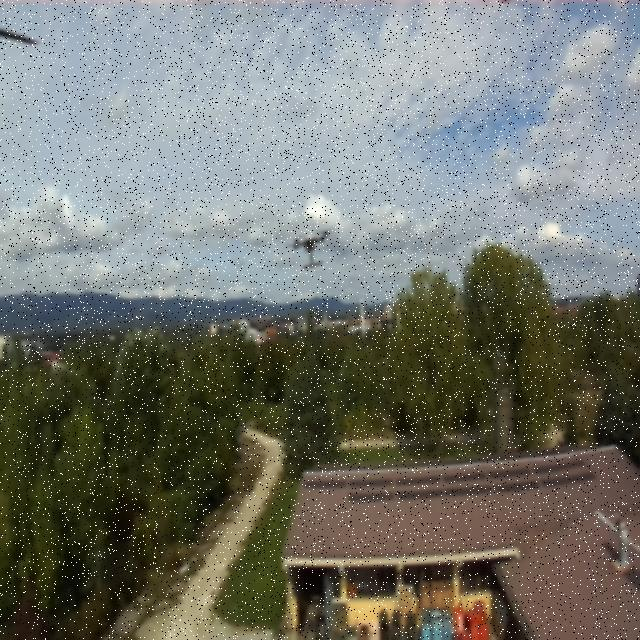UAV: (283, 223, 337, 274)
